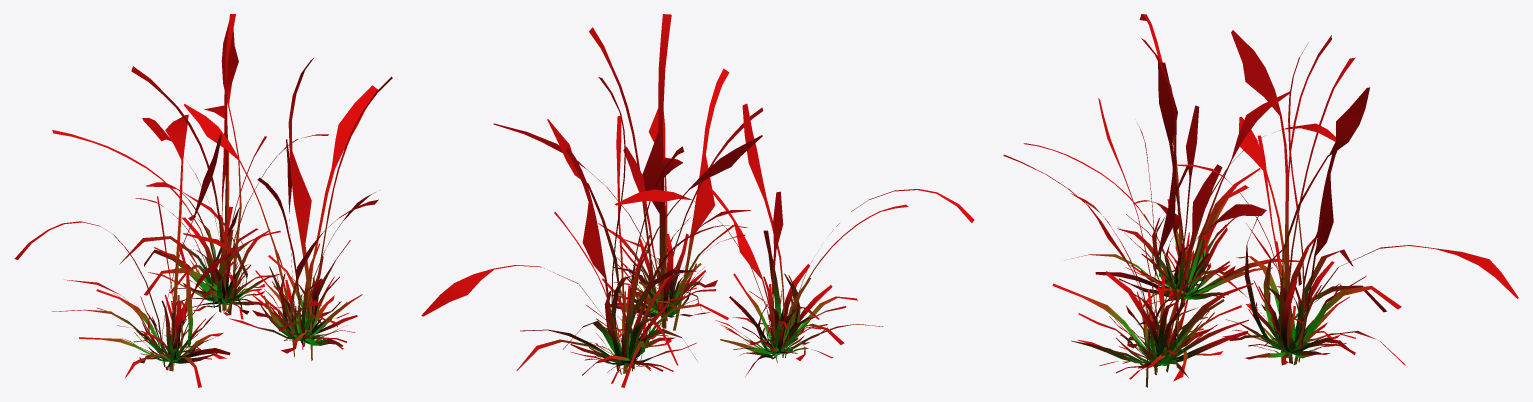
File: TallGrass2.FBX
3 renders of one model, left to right at view 1: azimuth 30°, elevation 25°; view 2: azimuth 150°, elevation 25°; view 3: azimuth 270°, elevation 25°, orthographic. The views are drawn at different scales.
Parts seen in each view (by area): view 1: TallGrass2_LOD0; view 2: TallGrass2_LOD0; view 3: TallGrass2_LOD0.
Boxes of the visible parts, x1,y1,x2,y2 form: TallGrass2_LOD0: (14,14,392,387); TallGrass2_LOD0: (421,14,974,387); TallGrass2_LOD0: (1003,14,1518,387).
Size of what is drawn, in the model's own units: 1.35 by 0.9458 by 1.27.
